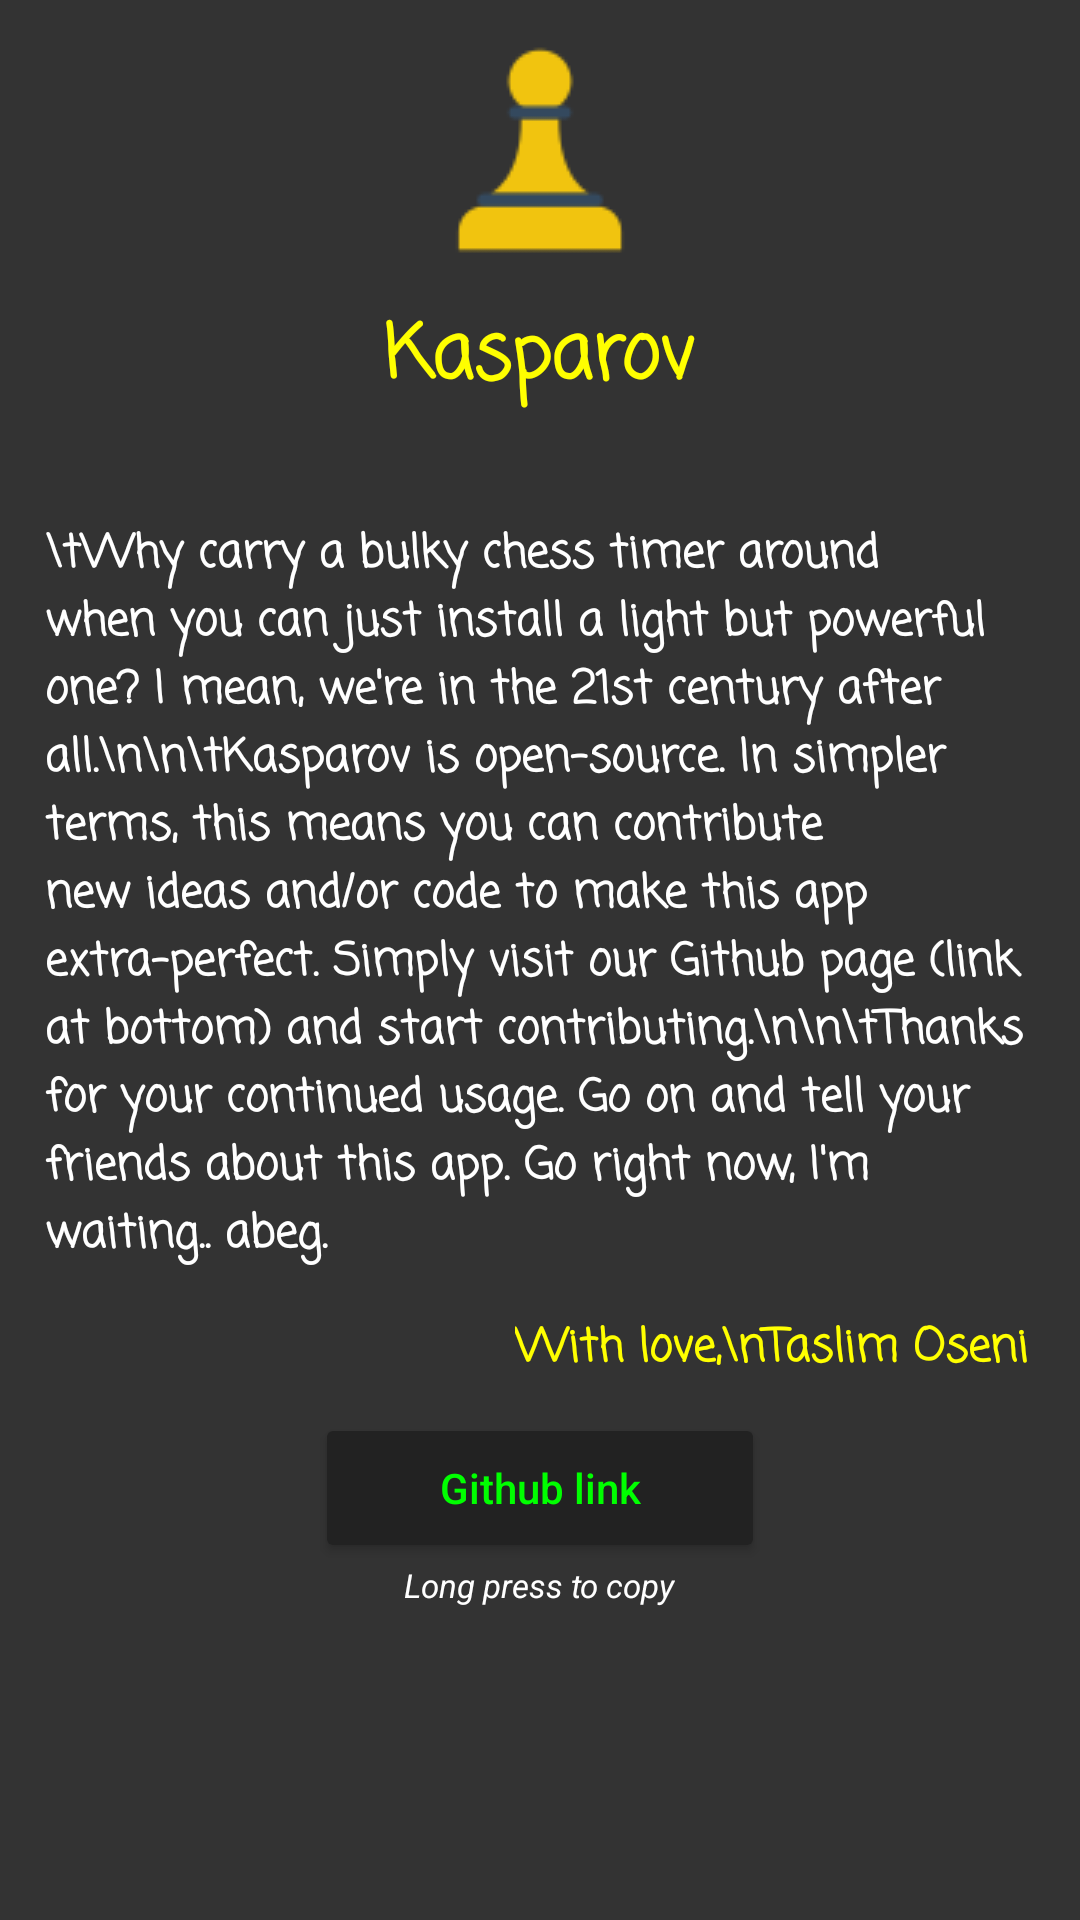

Icons on this 1080w x 1920h Android screen, each with its box as [x1=x1, y1=y1, x2=x2, y2=y2]:
pawn: [x1=458, y1=48, x2=622, y2=252]
